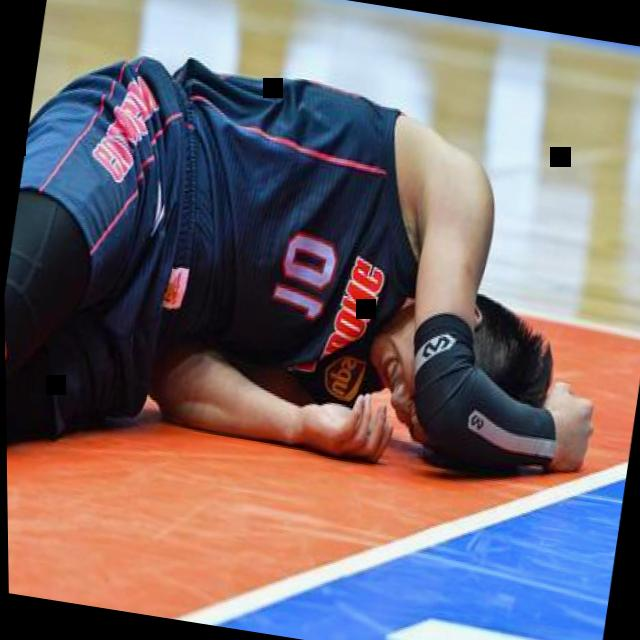Fall-Detected: (0, 15, 629, 509)
